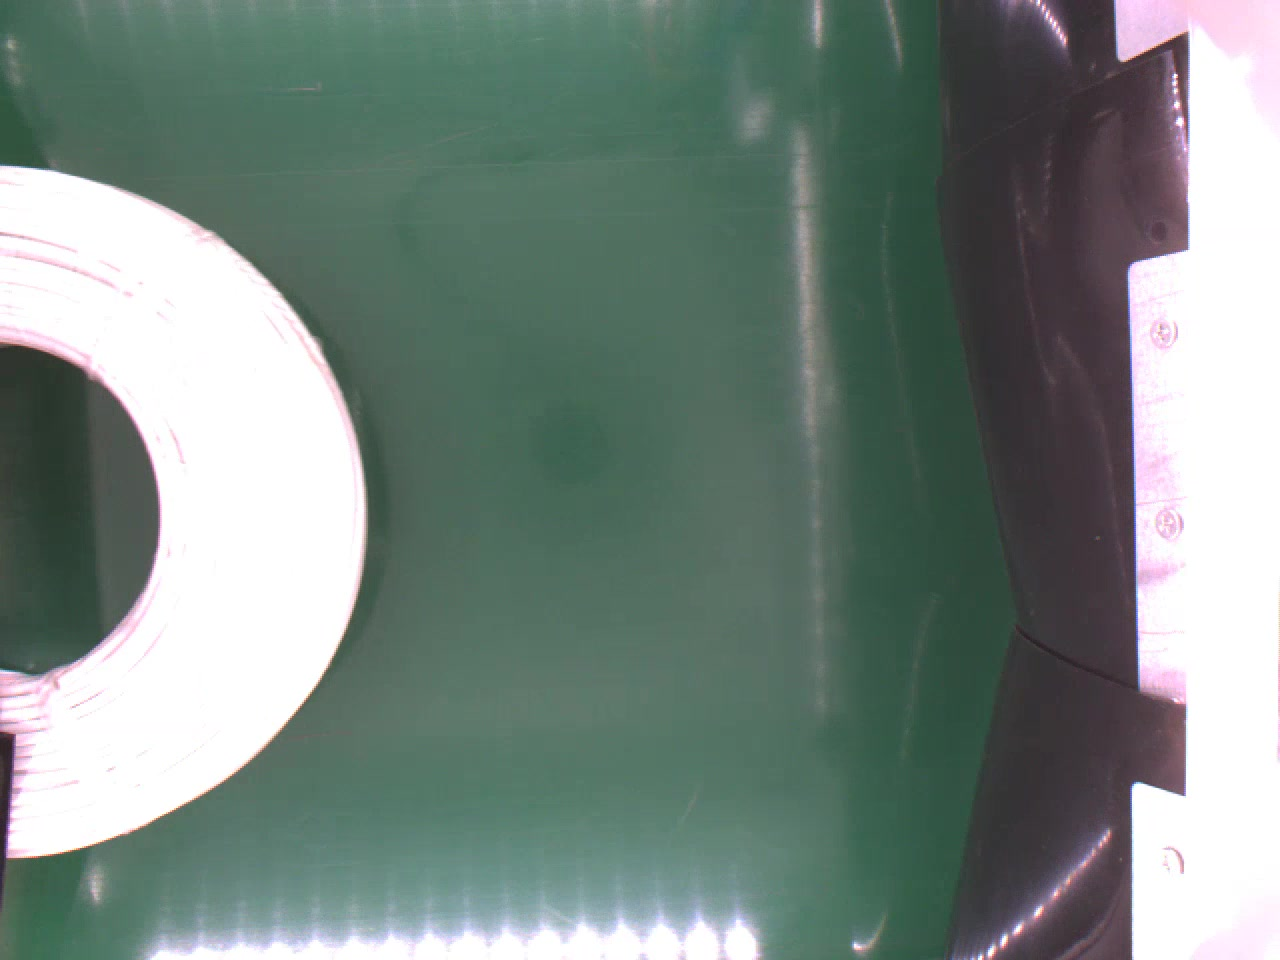white: (0, 162, 369, 860)
